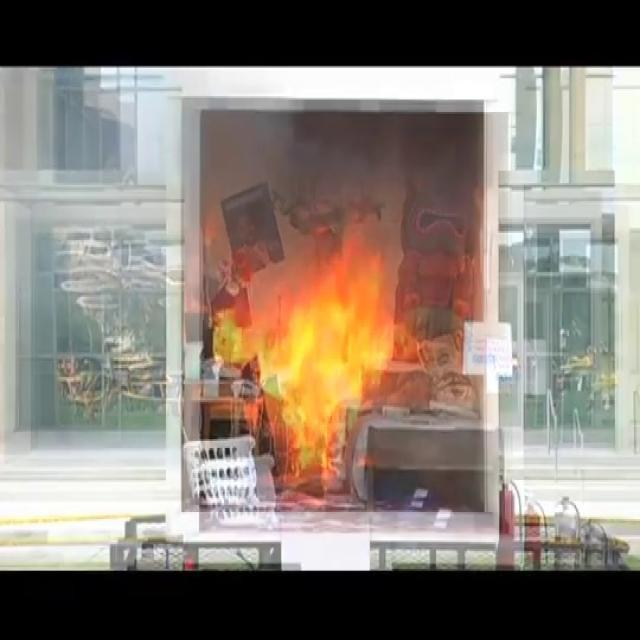Fire: (199, 221, 423, 479)
